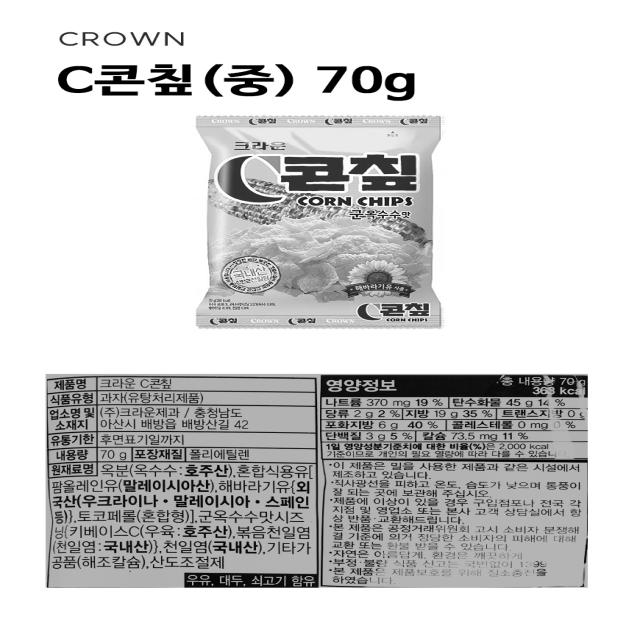Nutrition Label: (317, 370, 595, 466)
